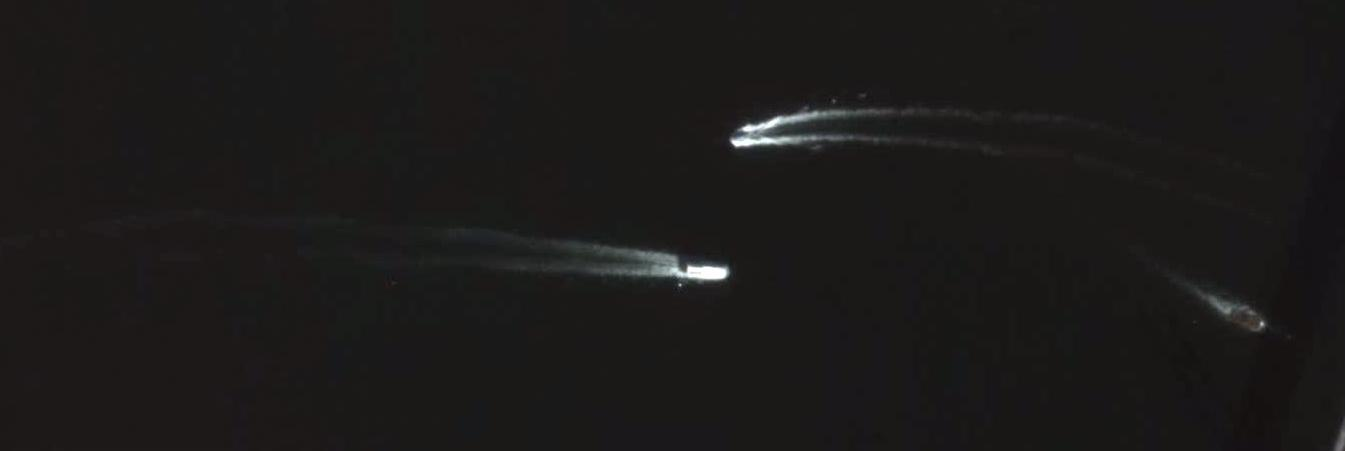person: (1227, 307, 1266, 332), (686, 265, 730, 280), (732, 131, 749, 140)
